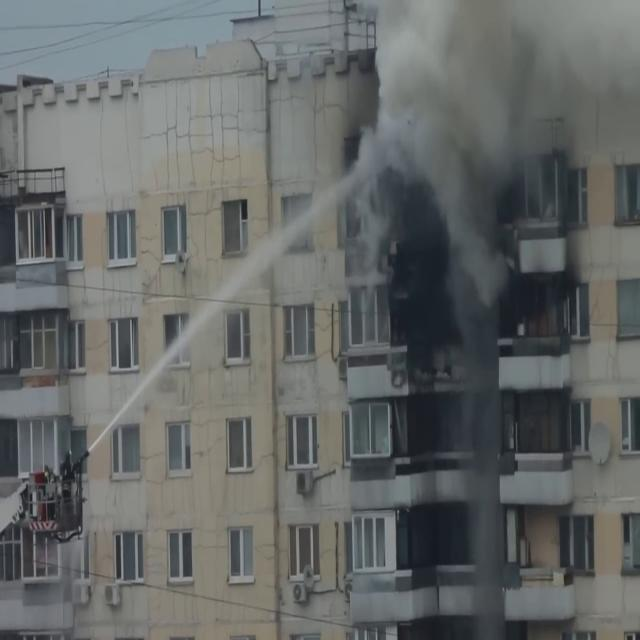Smoke: (337, 1, 599, 359)
